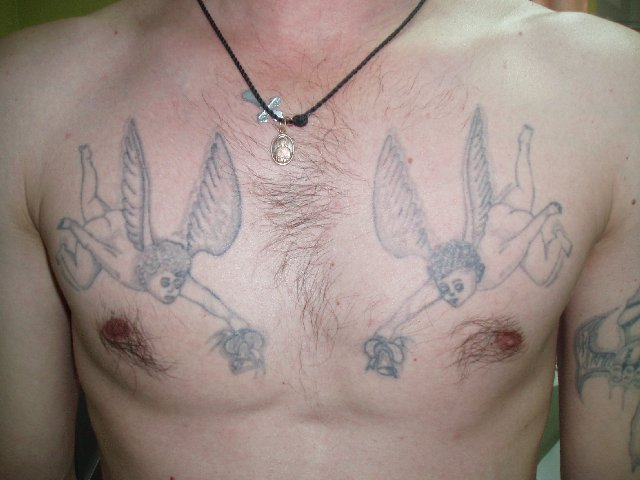tatu1_angel: (331, 102, 580, 304), (35, 112, 255, 322)
